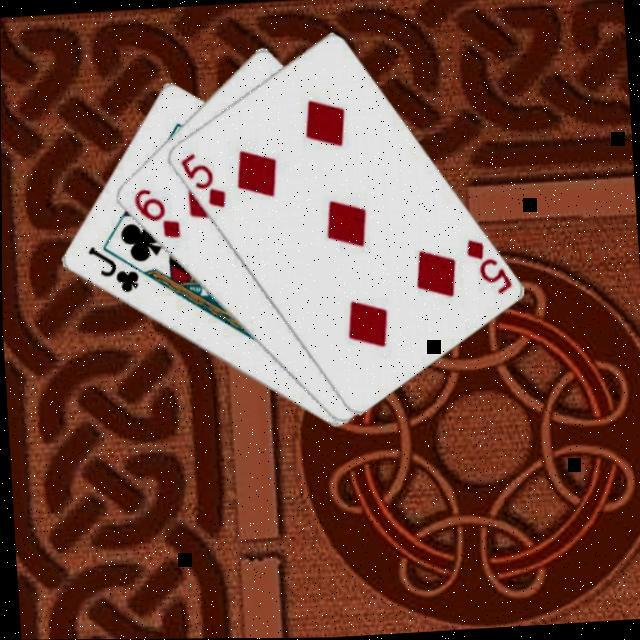5D: (460, 236, 513, 300), (175, 150, 227, 213)
6D: (128, 184, 182, 243)
JC: (82, 242, 141, 300)
